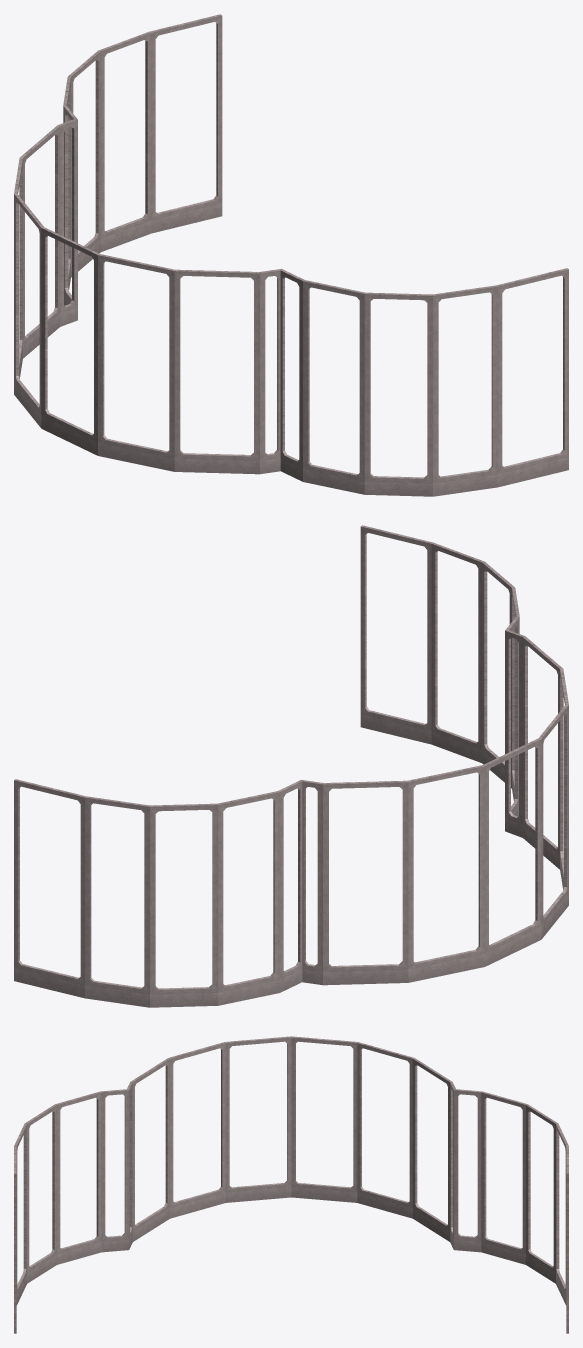
Rendered from Shutters.fbx.
3 views of the same model, one above another, from view 1: azimuth 30°, elevation 25°; view 2: azimuth 150°, elevation 25°; view 3: azimuth 270°, elevation 25° (orthographic). The views are drawn at different scales.
Parts seen in each view (by area): view 1: Shutter; view 2: Shutter; view 3: Shutter.
Part boxes in pixels (left/top/right/bottom): Shutter: left=14, top=14, right=568, bottom=496; Shutter: left=14, top=525, right=568, bottom=1007; Shutter: left=14, top=1036, right=568, bottom=1333.
Size of what is drawn, in the model's own units: 10767 by 5848 by 18391.
